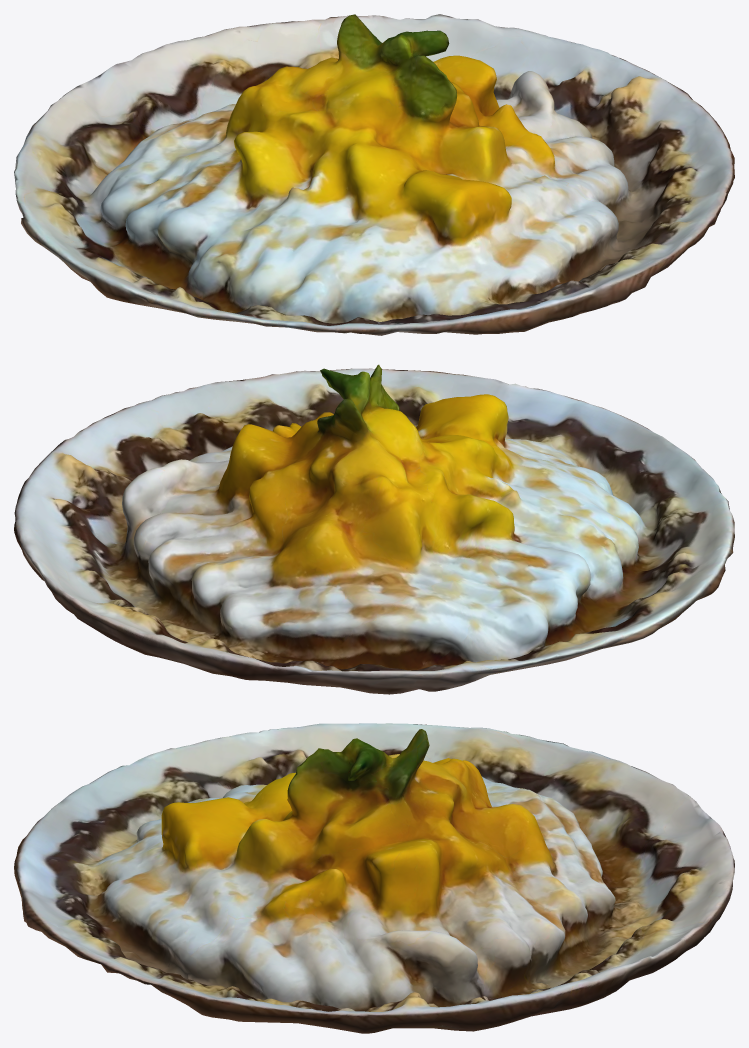
File: optimized_pancake.glb
3 renders of one model, top to bottom at view 1: azimuth 30°, elevation 25°; view 2: azimuth 150°, elevation 25°; view 3: azimuth 270°, elevation 25°, orthographic.
Bounding box in the file's own units: 0.1935 × 0.058 × 0.1939.
Materials: 1 (1 with a texture image).
